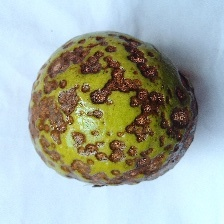guava: (55, 39, 200, 193)
